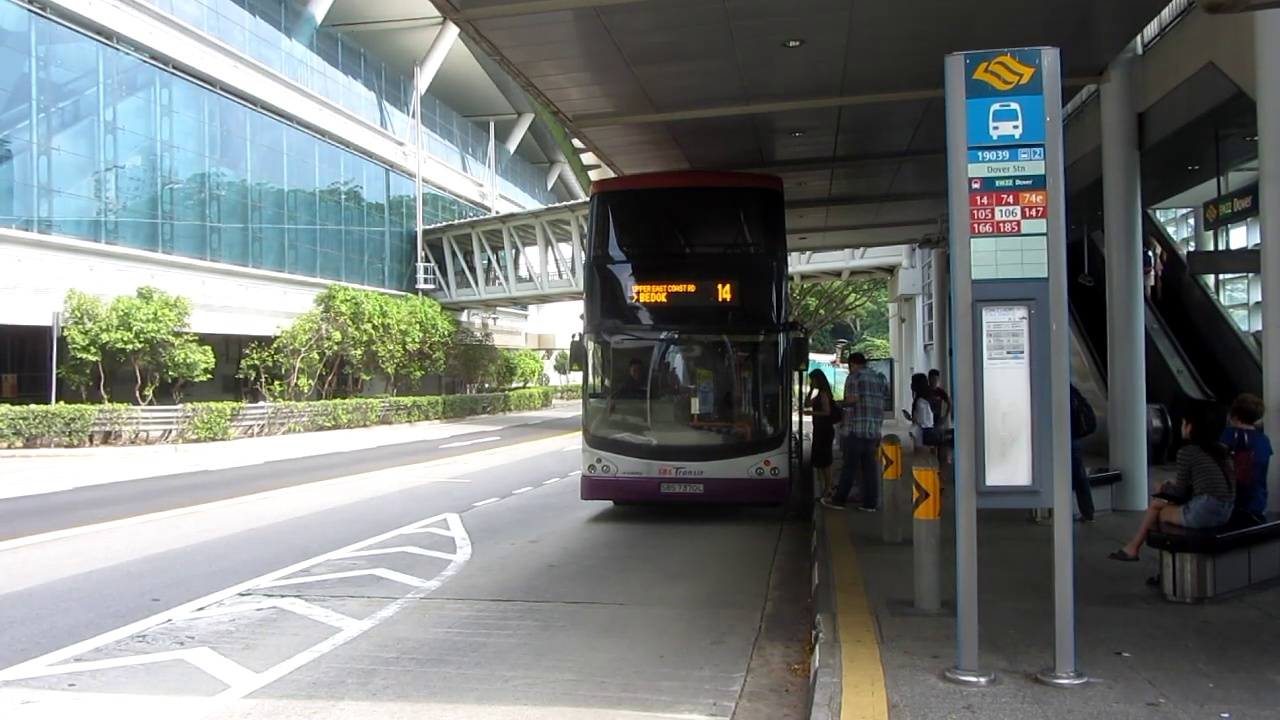bus panel: (625, 280, 739, 307)
